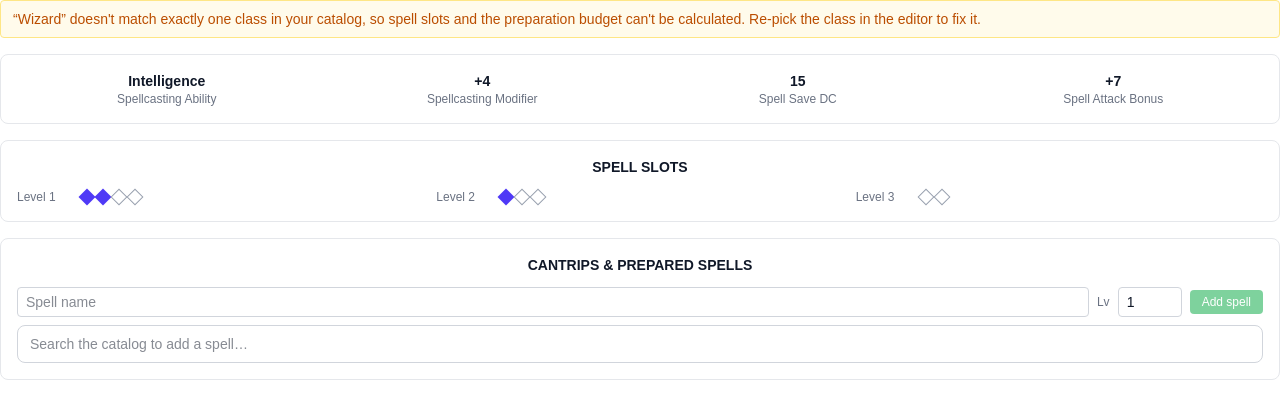
Test case: SpellcastingSection › spell management (owner) › disables Add until a name is entered
Expected: the button "Add spell" is disabled, [1190,290,1263,314]
Type "Bless" into the field named "New spell name". click: (553, 302)
box: [17,287,1089,317]
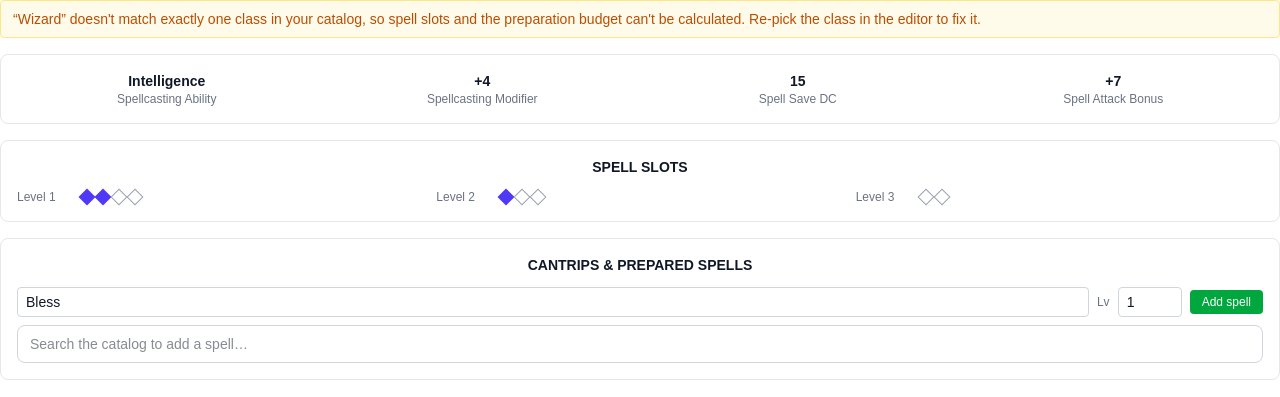
Expected: the button "Add spell" is enabled, [1190,290,1263,314]
